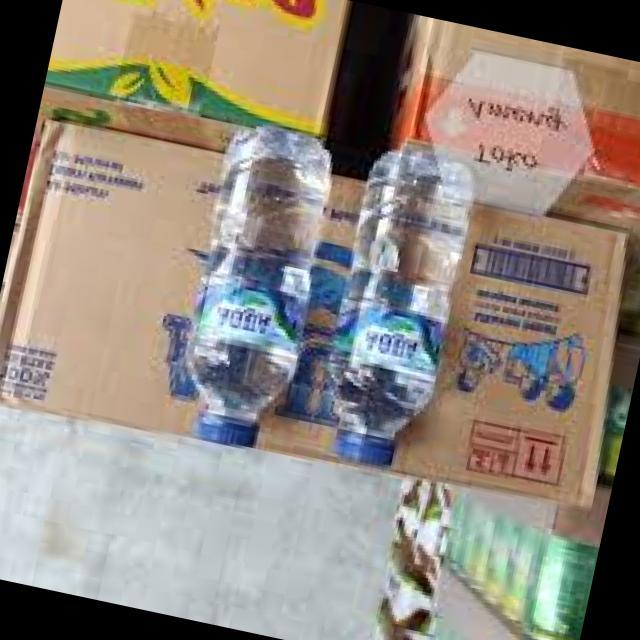good: (136, 128, 356, 480), (292, 136, 492, 508)
